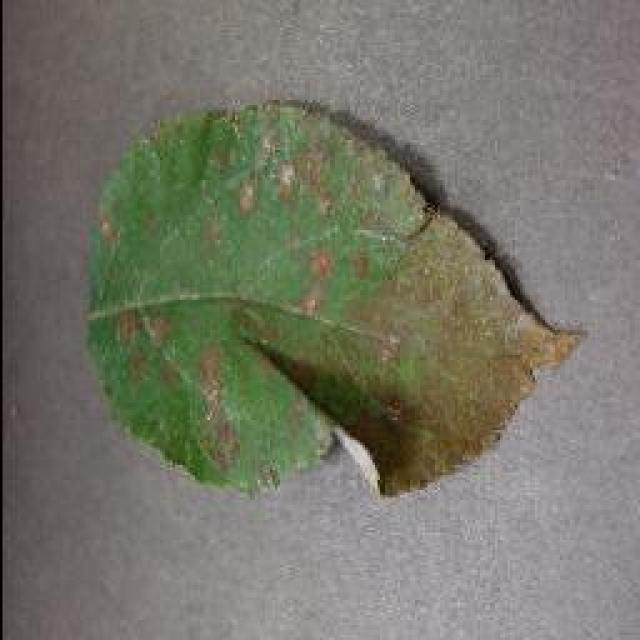apple healthy: (83, 95, 585, 503)
